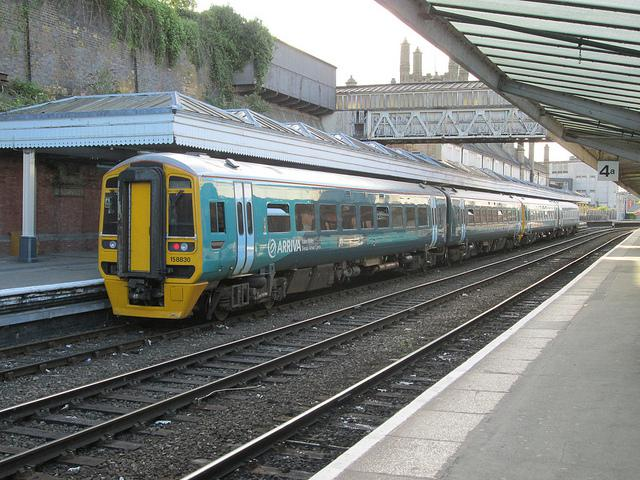Train: (96, 148, 582, 324)
